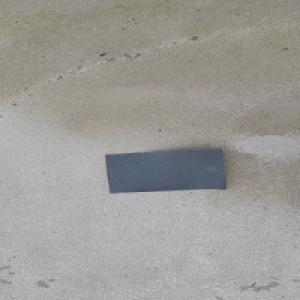PaintChip: (105, 146, 227, 193)
